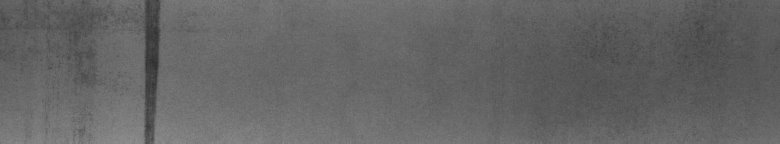hd: (80, 4, 168, 136)
